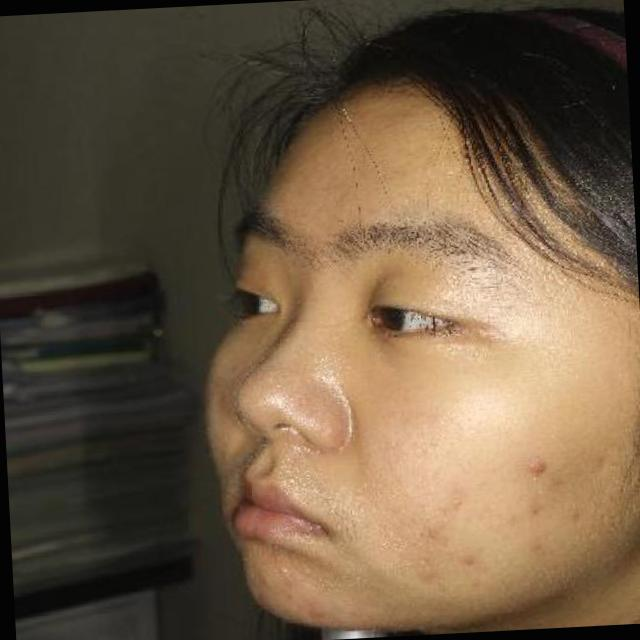darkspot: (520, 456, 550, 482)
